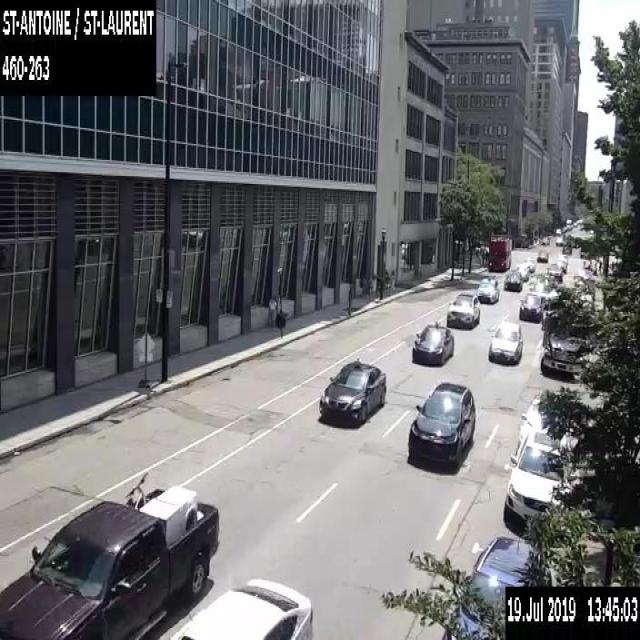bus: (488, 233, 512, 271)
construction: (134, 329, 156, 387)
pedestrian: (268, 290, 276, 330), (369, 275, 376, 297), (390, 268, 395, 291), (384, 270, 389, 292), (484, 250, 488, 264), (481, 250, 484, 264)
vehicle: (0, 474, 220, 638), (442, 535, 538, 639), (167, 576, 315, 639), (503, 426, 569, 530), (406, 382, 474, 474), (317, 359, 385, 429), (515, 393, 570, 457), (540, 331, 588, 378), (412, 320, 454, 365), (488, 320, 522, 363), (446, 289, 480, 328), (520, 291, 542, 321), (476, 277, 499, 302), (503, 268, 522, 290), (545, 262, 562, 281), (0, 634, 75, 638), (515, 262, 528, 280), (522, 256, 534, 272), (553, 258, 565, 273), (536, 250, 548, 262), (558, 252, 568, 264), (562, 242, 571, 254), (540, 235, 549, 244), (555, 236, 564, 245), (555, 228, 561, 235)
